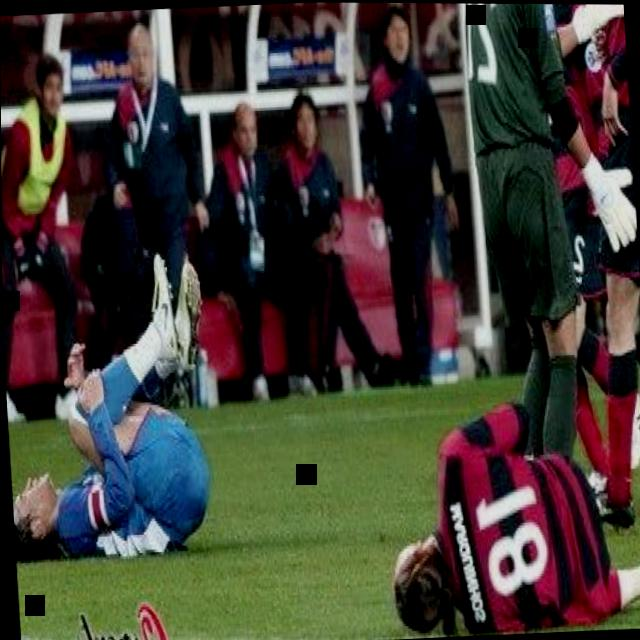Fall-Detected: (365, 387, 640, 640)
